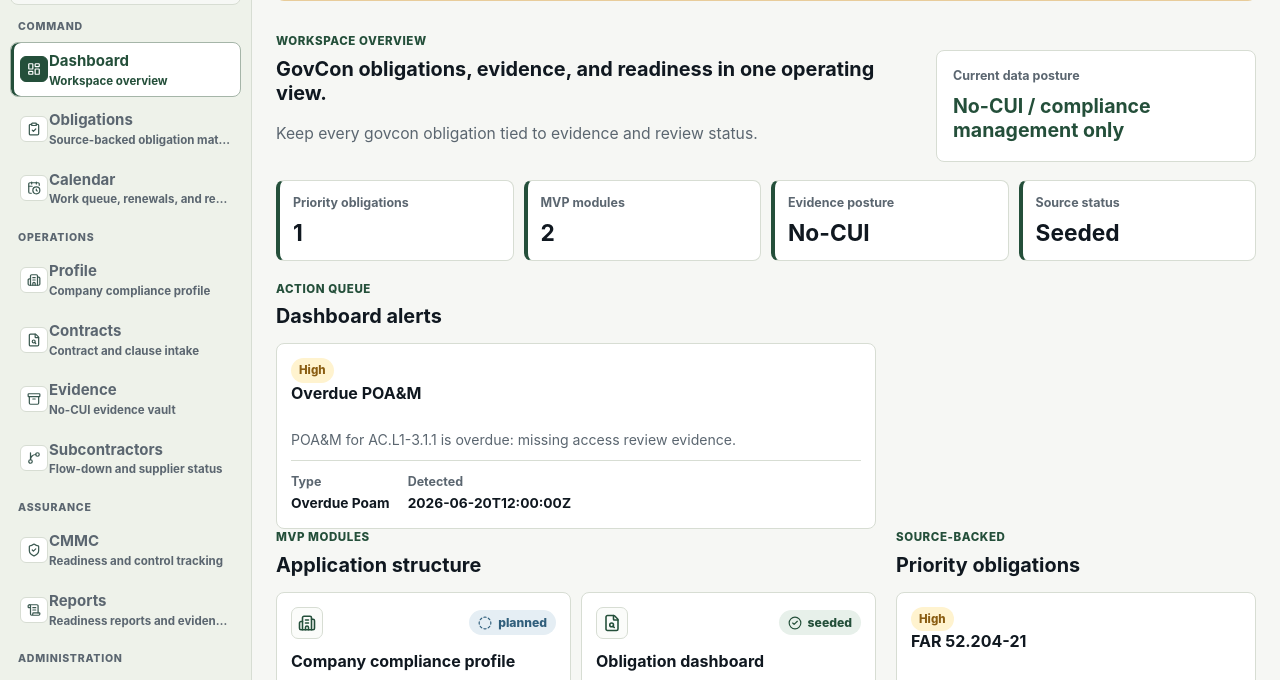
Scenario: App › TC-8.2.1 disables contract document upload before No-CUI acknowledgement
(page scrolled)
Click the link "Contracts Contract and clause intake": (110, 339) [20,321,199,358]
(page scrolled)
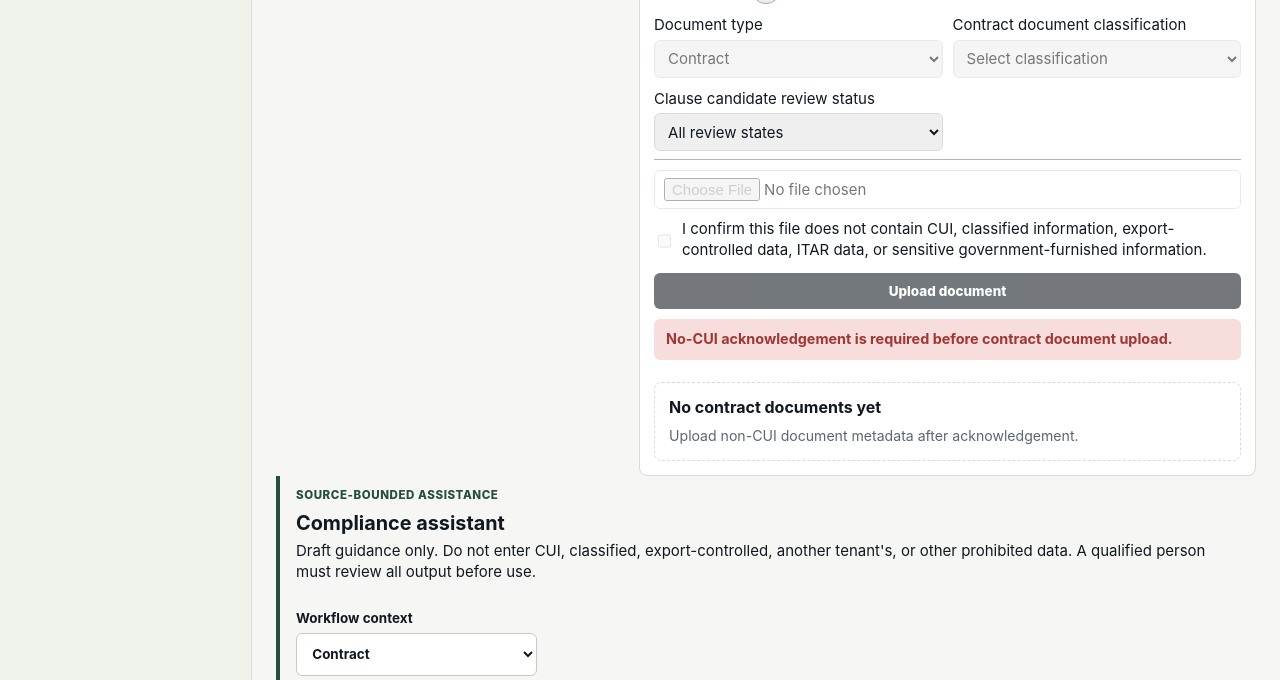
Expected: the dropdown labelled "Document type" is disabled, [654,40,942,78]
Expected: the dropdown labelled "Contract document classification" is disabled, [952,40,1241,78]
Expected: the file field named "Contract document" is disabled, [654,170,1241,209]
